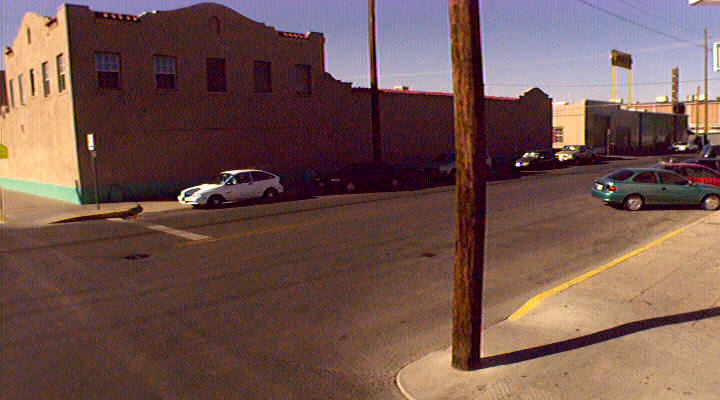Ramp: (387, 307, 669, 400), (1, 203, 81, 231)
